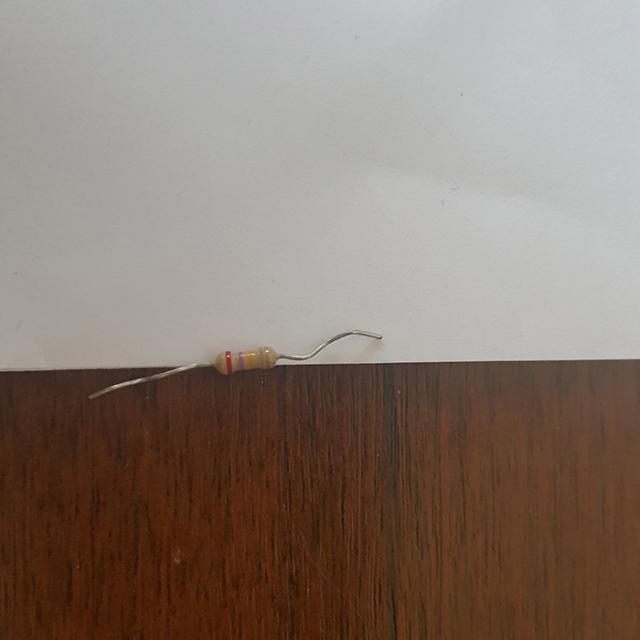gold: (263, 347, 269, 368)
red: (225, 350, 230, 372)
resistor: (213, 333, 289, 384)
violet: (237, 351, 244, 368)
yellow: (248, 350, 253, 368)
